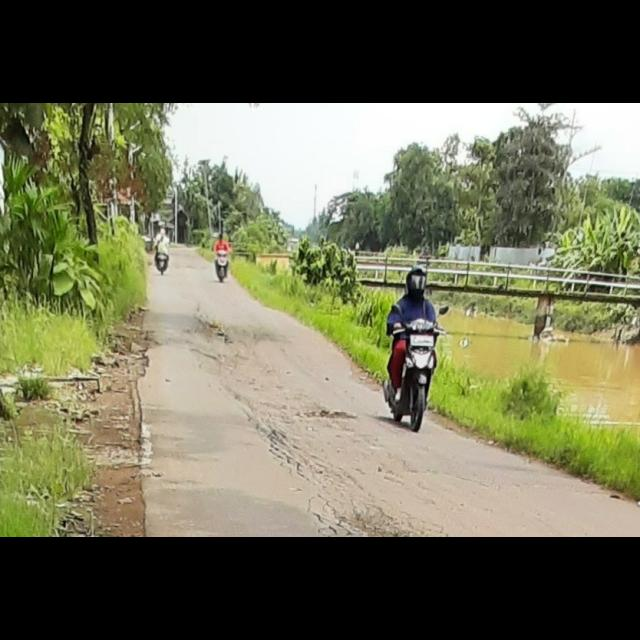lubang_kecil: (294, 400, 364, 427), (195, 316, 235, 348)
retak_kulit_buaya: (264, 437, 355, 532)
